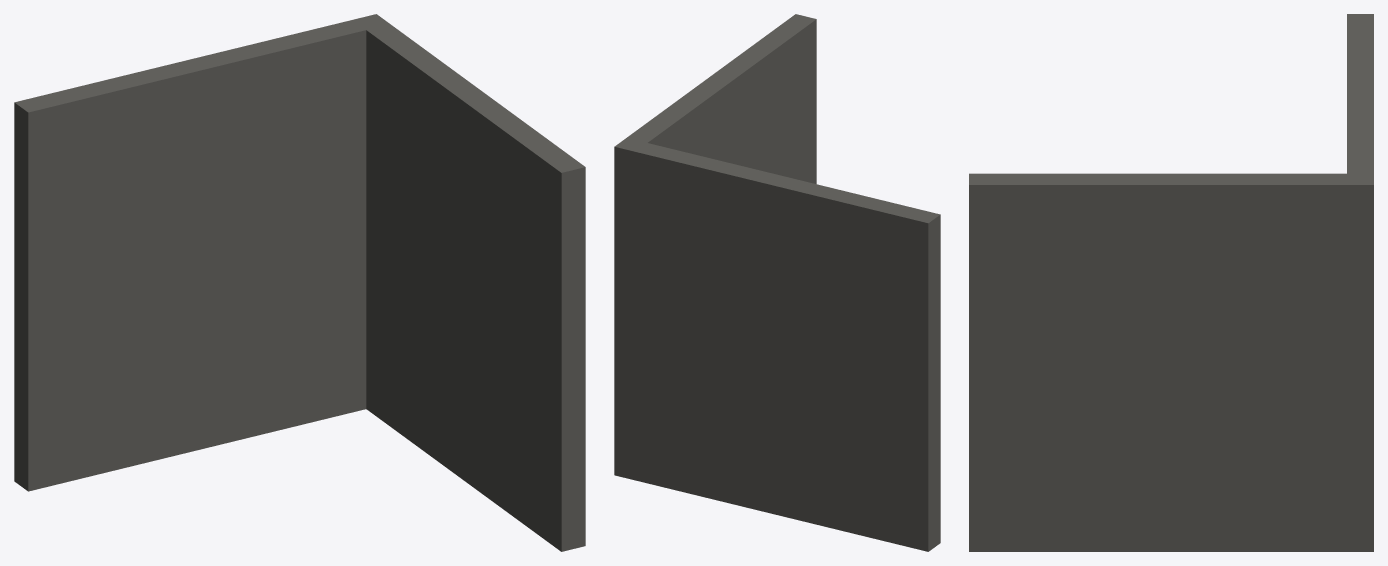
Rendered from SM_Wall_Corner_In.gltf.
3 views of the same model, side by side, from view 1: azimuth 30°, elevation 25°; view 2: azimuth 150°, elevation 25°; view 3: azimuth 270°, elevation 25° (orthographic). The views are drawn at different scales.
Parts seen in each view (by area): view 1: SM_Wall_Corner_In; view 2: SM_Wall_Corner_In; view 3: SM_Wall_Corner_In.
Part boxes in pixels (x1=…): SM_Wall_Corner_In: x1=14, y1=14, x2=585, y2=551; SM_Wall_Corner_In: x1=614, y1=14, x2=940, y2=551; SM_Wall_Corner_In: x1=969, y1=14, x2=1373, y2=551.
Bounding box in the file's own units: 3 × 3 × 3.
1 material, 1 textured.
